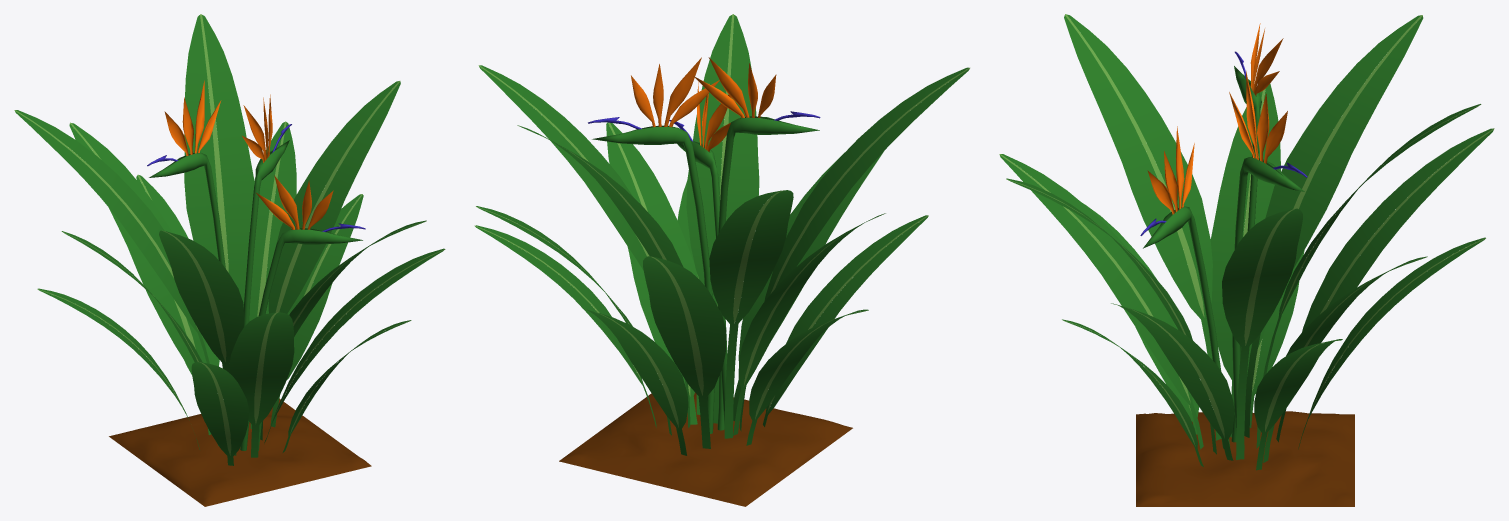
File: bird-of-paradise.glb
3 renders of one model, left to right at view 1: azimuth 30°, elevation 25°; view 2: azimuth 150°, elevation 25°; view 3: azimuth 270°, elevation 25°, orthographic. The views are drawn at different scales.
Visible parts, largest first — view 1: 4_nft_bloom; view 2: 4_nft_bloom; view 3: 4_nft_bloom.
Part boxes in pixels (<box>): 4_nft_bloom: <box>14,14,445,506</box>; 4_nft_bloom: <box>474,14,969,506</box>; 4_nft_bloom: <box>999,14,1494,506</box>.
Bounding box in the file's own units: 1.49 × 1.46 × 1.58.
